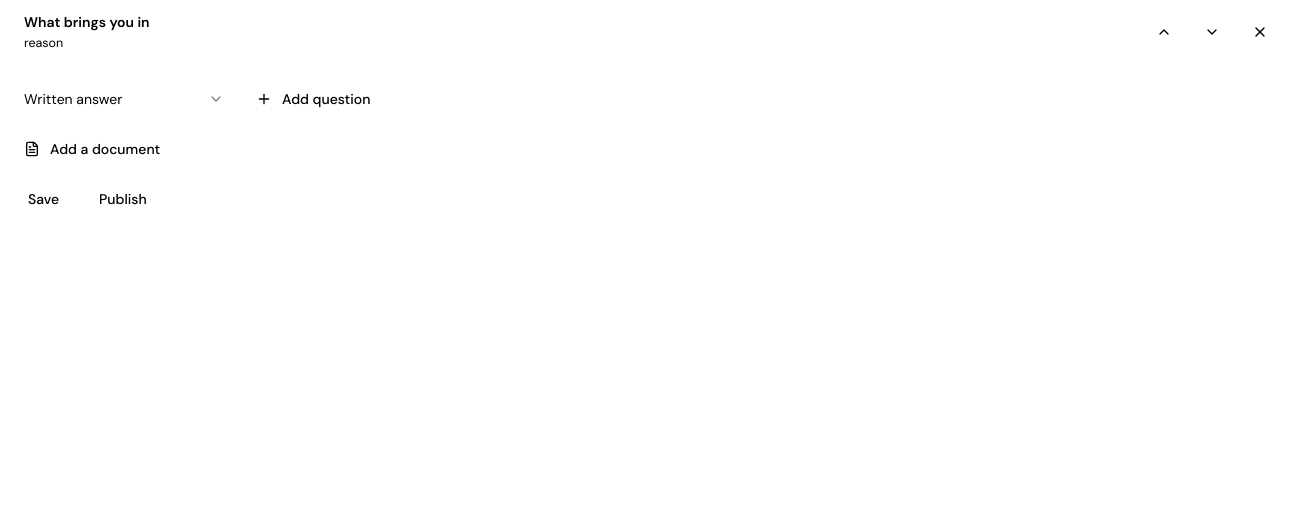
it: IntakeItemEditor › offers a heading override on a question Pablo already words
Click the button "What brings you in reason" at x=87, y=22, box [24,12,1136,53]
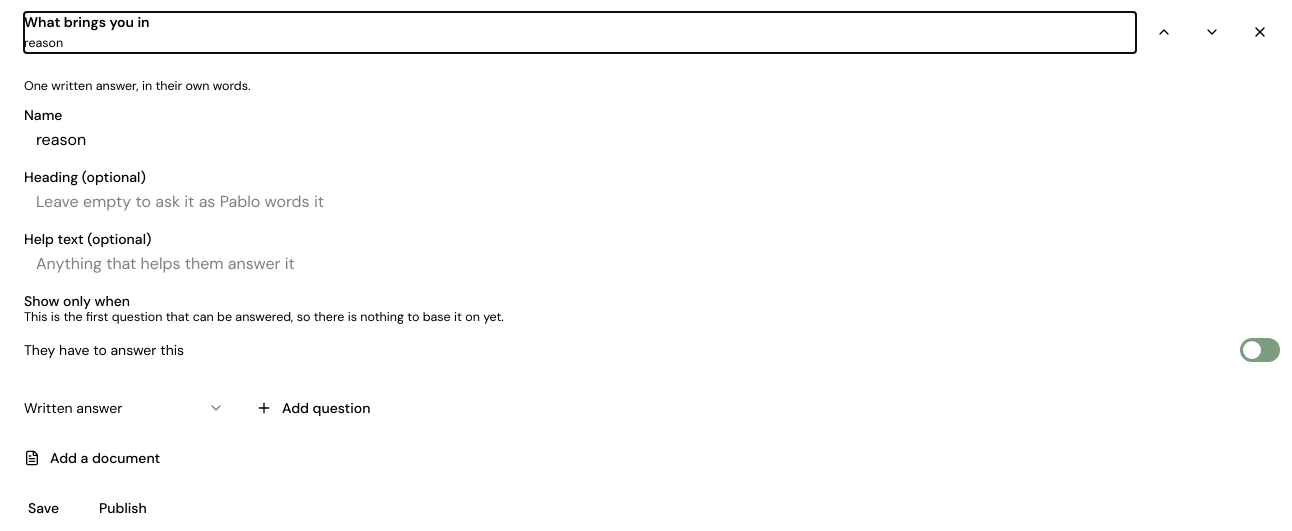
Check: the field labelled "Heading (optional)" is shown, box [24,184,1280,220]
